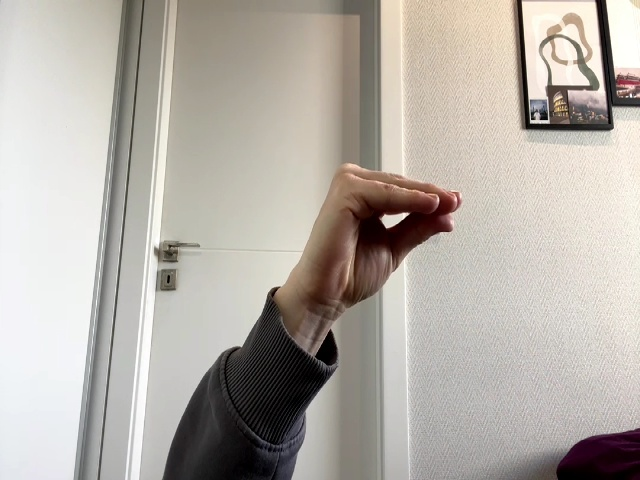E: (290, 163, 461, 323)
